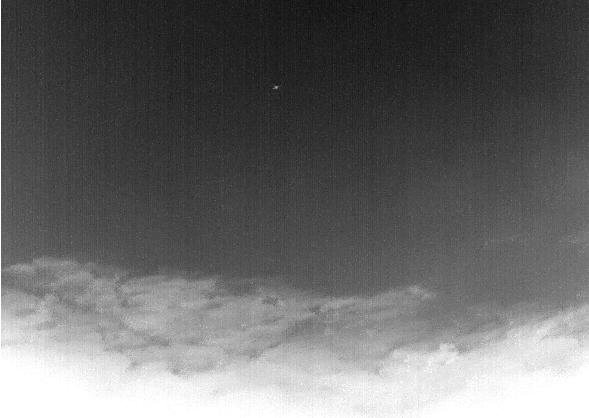dim target: (271, 84, 280, 90)
